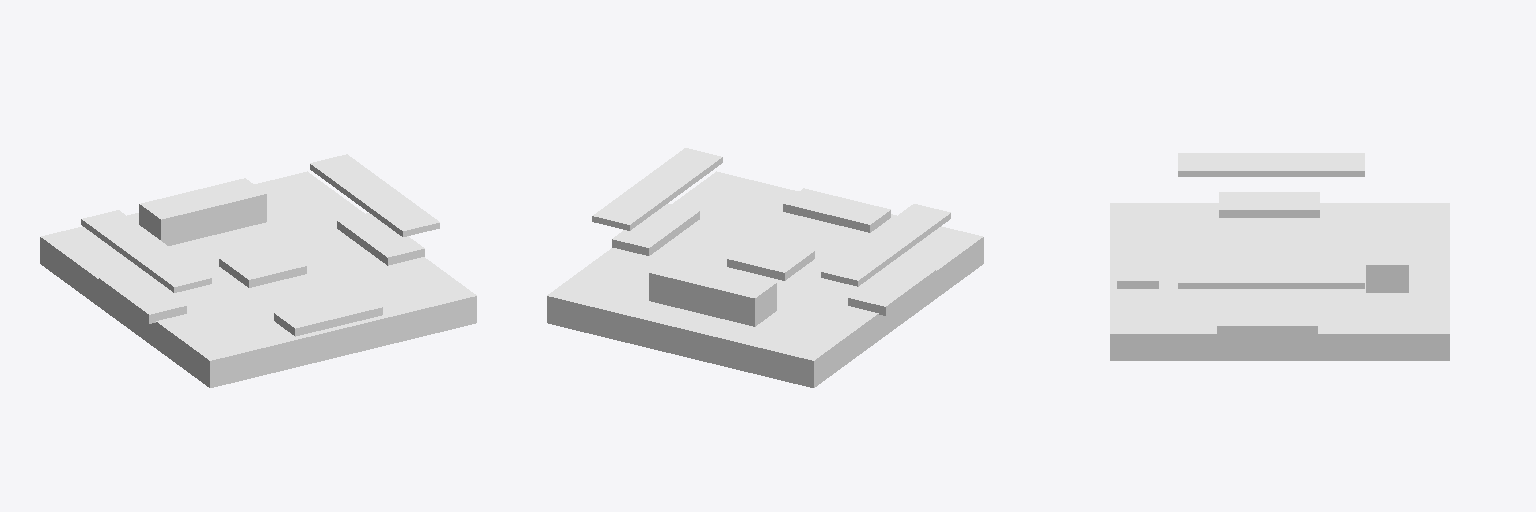
File: Ground Objects Export for Testing.obj
3 renders of one model, left to right at view 1: azimuth 30°, elevation 25°; view 2: azimuth 150°, elevation 25°; view 3: azimuth 270°, elevation 25°, orthographic.
Parts seen in each view (by area): view 1: Ground Objects Export for Testing; view 2: Ground Objects Export for Testing; view 3: Ground Objects Export for Testing.
Part boxes in pixels (x1,y1,x2,y2): Ground Objects Export for Testing: (40, 154, 476, 387); Ground Objects Export for Testing: (547, 148, 983, 387); Ground Objects Export for Testing: (1110, 153, 1449, 360).
Size of the model in its own units: 94.91 by 25.33 by 102.